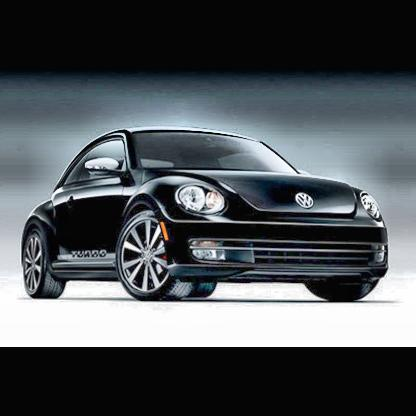Volkswagen Beetle Hatchback 2012: (20, 125, 392, 308)
